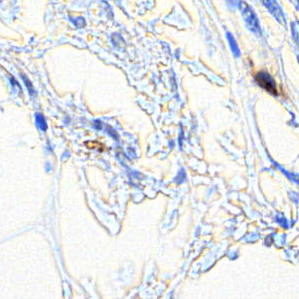Lymphocyte: (252, 69, 280, 96)
